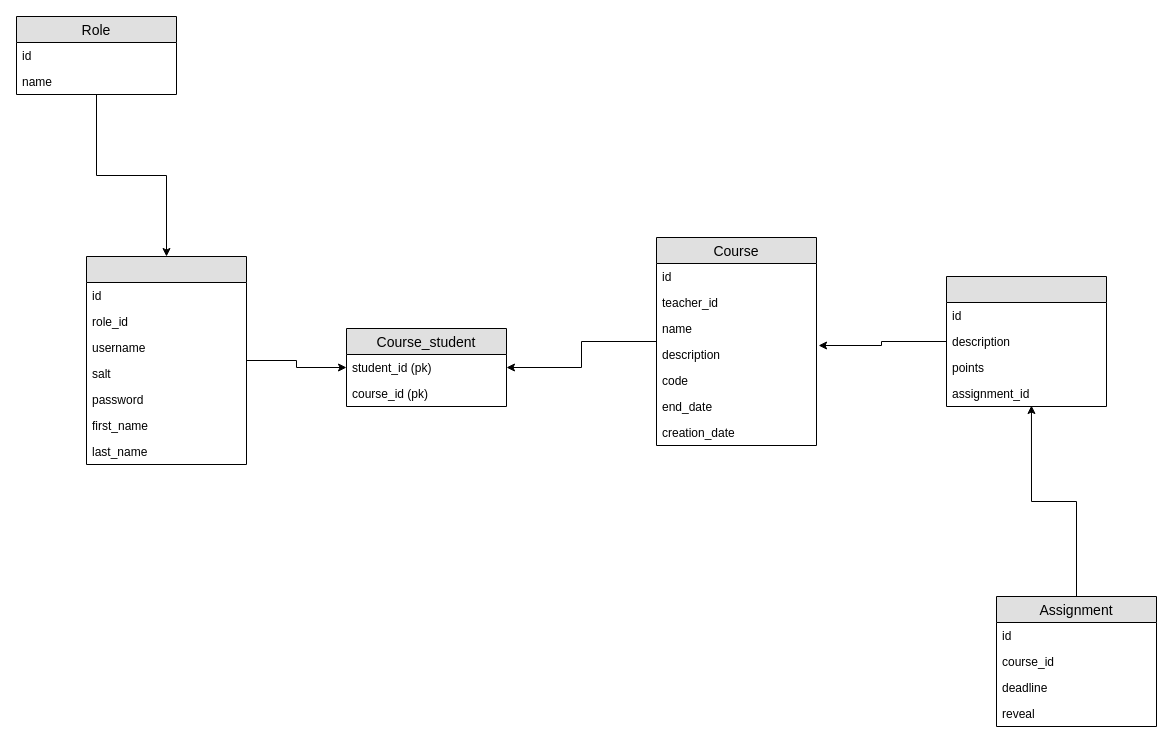
Some shapes in this 1173 by 743 pixel diagram are drawn without their labels. The box of each missing label's shape, as (x1, y1, x2, y2) in pixels:
Account: (86, 256, 246, 464)
task: (946, 276, 1106, 406)
